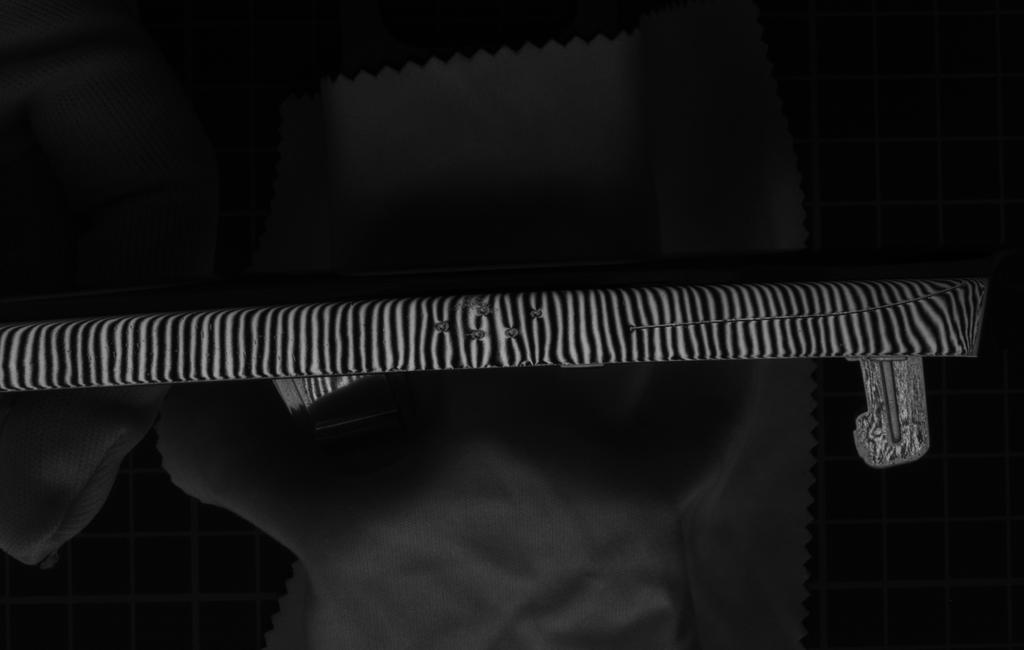Pierced: (428, 315, 458, 340), (463, 324, 491, 345), (524, 305, 548, 324), (498, 325, 524, 342), (472, 302, 496, 318)
Pitting: (447, 293, 493, 313)
Scratch: (612, 279, 977, 337)
